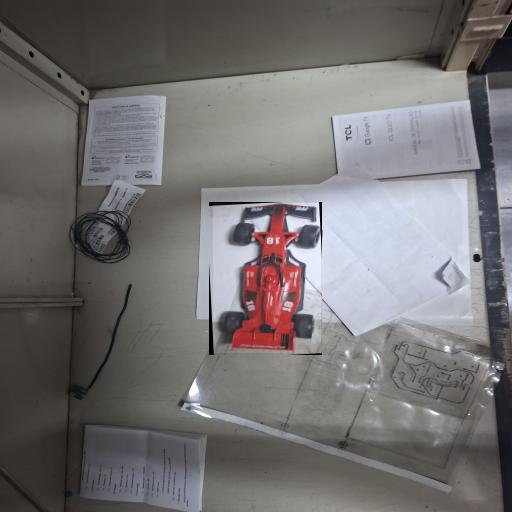carro: (214, 203, 321, 353)
